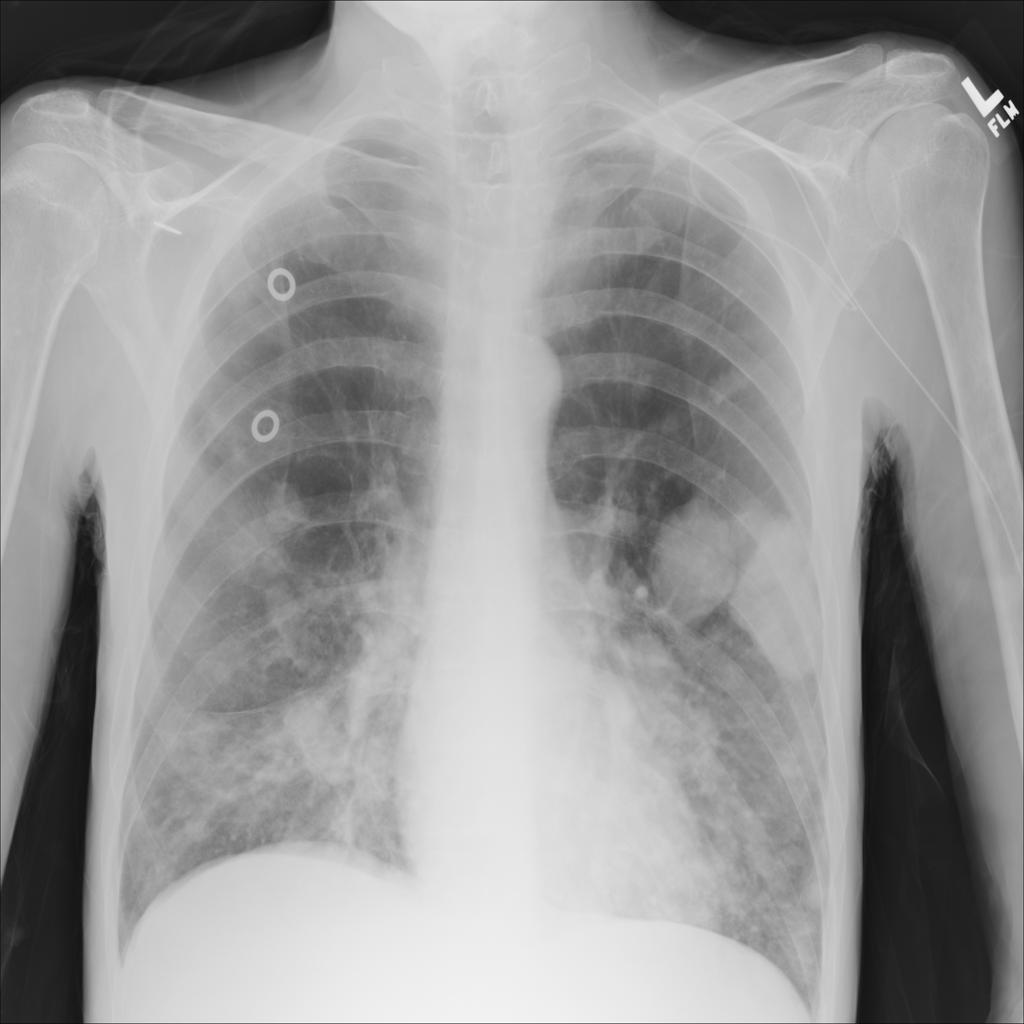nodule: (733, 493, 851, 688), (634, 492, 747, 633), (246, 473, 317, 553), (194, 646, 246, 696), (650, 400, 698, 452), (171, 806, 220, 855)
